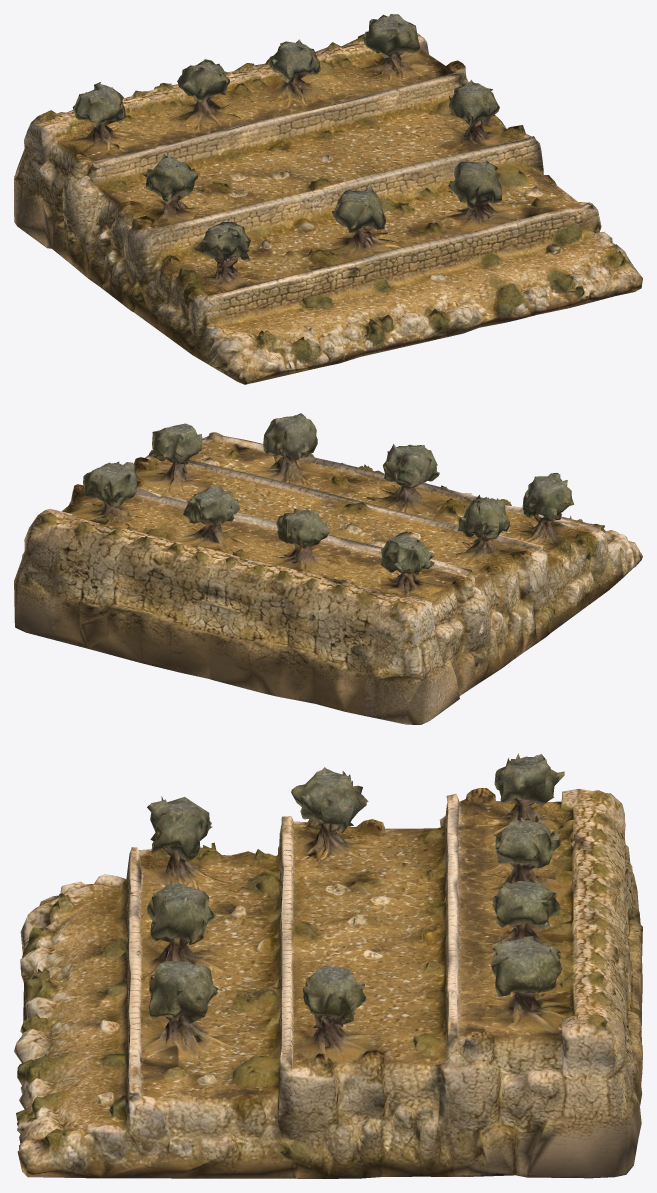
File: city_balikesir_olive_terrace.glb
The picture shows the model from 3 angles, top to bottom: view 1: azimuth 30°, elevation 25°; view 2: azimuth 150°, elevation 25°; view 3: azimuth 270°, elevation 25°; orthographic projection. The views are drawn at different scales.
Parts seen in each view (by area): view 1: Mesh1.0; view 2: Mesh1.0; view 3: Mesh1.0.
Boxes of the visible parts, x1=… form: Mesh1.0: x1=14, y1=14, x2=642, y2=384; Mesh1.0: x1=14, y1=413, x2=642, y2=724; Mesh1.0: x1=14, y1=753, x2=642, y2=1178.
Bounding box in the file's own units: 34.99 × 12 × 34.74.
1 material, 1 textured.
